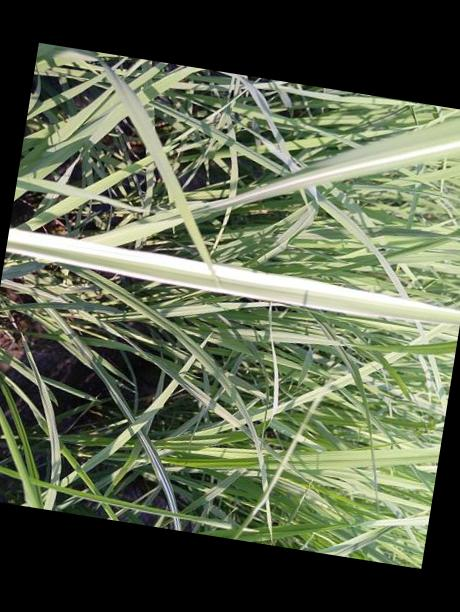Leaf Blight: (6, 227, 460, 327), (213, 132, 460, 208)
